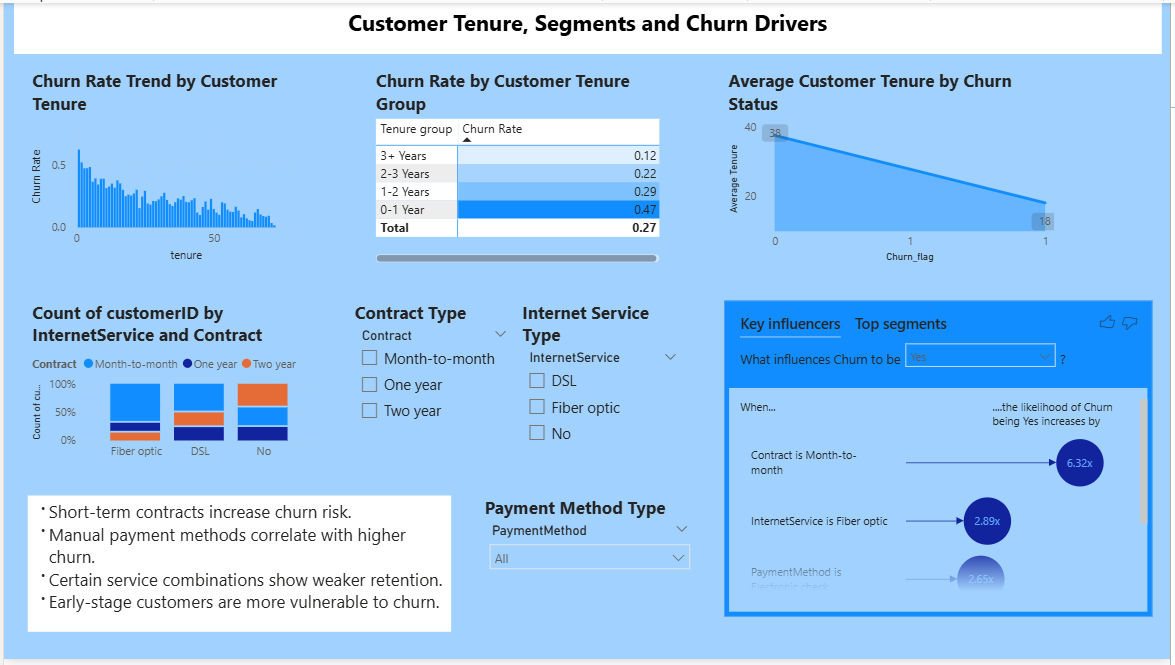

The page's visual inventory and layout, read from the dashboard file:
{"tool":"powerbi","page":{"name":"Page 2","canvas":[1280,720],"ordinal":1},"visuals":[{"type":"pivotTable","title":"Churn Rate by Customer Tenure Group","fields":{"Rows":["Task2_cleaned.Tenure group"],"Values":["Task2_cleaned.Churn Rate"]},"box":[403.4,72.7,321.1,216.8],"z":0},{"type":"lineChart","title":"Average Customer Tenure by Churn Status","fields":{"Y":["Task2_cleaned.Average Tenure"],"Category":["Task2_cleaned.Churn_flag"]},"box":[790.4,72.7,367.8,216.8],"z":1000},{"type":"columnChart","title":"Churn Rate Trend by Customer Tenure","fields":{"Category":["Task2_cleaned.tenure"],"Y":["Task2_cleaned.Churn Rate"]},"box":[26.1,72.7,307.4,216.8],"z":2000},{"type":"hundredPercentStackedColumnChart","fields":{"Category":["Task2_cleaned.InternetService"],"Series":["Task2_cleaned.Contract"],"Y":["CountNonNull(Task2_cleaned.customerID)"]},"box":[26.1,326.6,321.1,183.9],"z":3000},{"type":"textbox","box":[26.1,540.7,465.2,149.6],"z":4000},{"type":"keyDriversVisual","fields":{"Target":["Task2_cleaned.Churn"],"ExplainBy":["Task2_cleaned.Contract","Task2_cleaned.InternetService","Task2_cleaned.PaymentMethod","Sum(Task2_cleaned.tenure)"]},"box":[790.4,326.6,470.7,347.2],"z":5000},{"type":"slicer","title":"Contract Type","fields":{"Values":["Task2_cleaned.Contract"]},"box":[380.1,326.6,183.9,183.9],"z":6000},{"type":"slicer","title":"Internet Service Type","fields":{"Values":["Task2_cleaned.InternetService"]},"box":[564,326.6,186.6,183.9],"z":7000},{"type":"slicer","title":"Payment Method Type","fields":{"Values":["Task2_cleaned.PaymentMethod"]},"box":[522.8,540.7,240.1,149.6],"z":8000},{"type":"textbox","box":[11,0,1259.7,56.3],"z":9000}]}

Visuals, with their boxes in screenshot pixels (x1, y1, x2, y2), scaled from the page's 1280x720 canvas onto the 1175x665 screenshot:
"Churn Rate by Customer Tenure Group" pivotTable: select_region(370, 67, 665, 267)
"Average Customer Tenure by Churn Status" lineChart: select_region(726, 67, 1063, 267)
"Churn Rate Trend by Customer Tenure" columnChart: select_region(24, 67, 306, 267)
hundredPercentStackedColumnChart - Task2_cleaned.InternetService x Task2_cleaned.Contract: select_region(24, 302, 319, 472)
textbox: select_region(24, 499, 451, 638)
keyDriversVisual - Task2_cleaned.Churn x Task2_cleaned.Contract: select_region(726, 302, 1158, 622)
"Contract Type" slicer: select_region(349, 302, 518, 472)
"Internet Service Type" slicer: select_region(518, 302, 689, 472)
"Payment Method Type" slicer: select_region(480, 499, 700, 638)
textbox: select_region(10, 0, 1166, 52)
